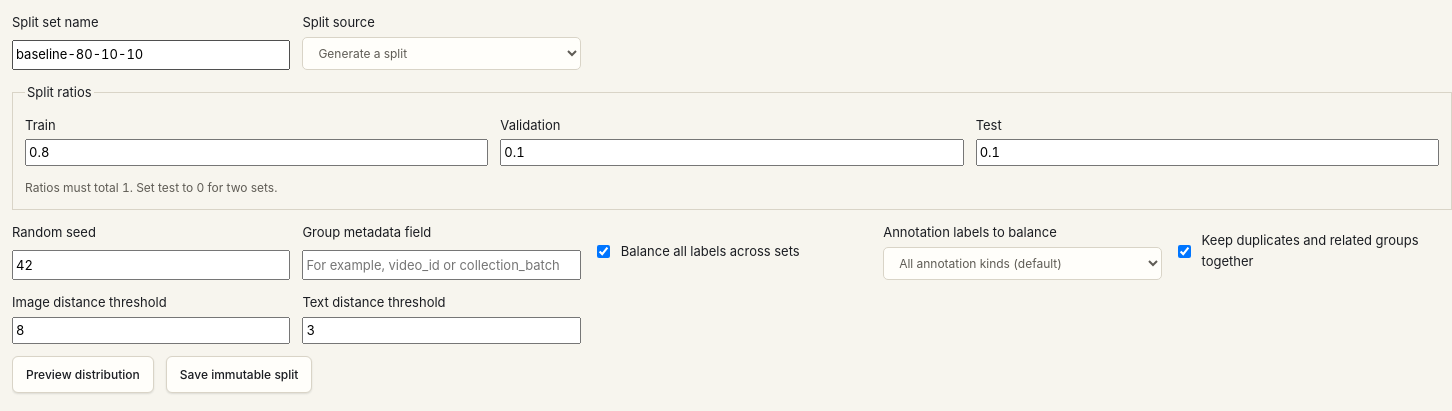
disables source selection when generated stratification does not apply
Click the checkbox labelled "Balance all labels across sets". click: [603, 251]
box: [597, 245, 610, 258]
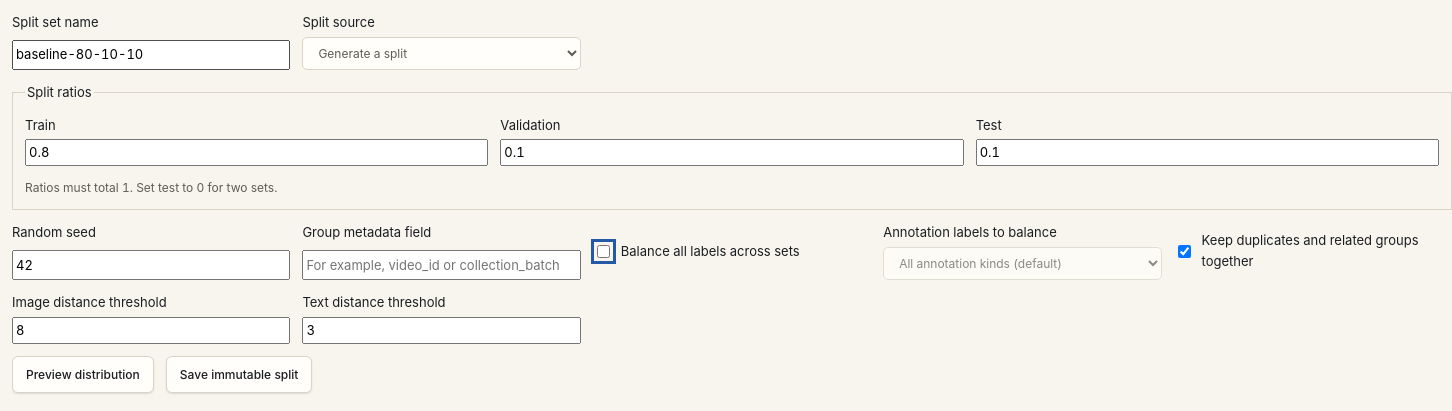
Expected: the dropdown labelled "Annotation labels to balance" is disabled, [883, 247, 1162, 280]
Click the checkbox labelled "Balance all labels across sets". click: [603, 251]
box: [597, 245, 610, 258]
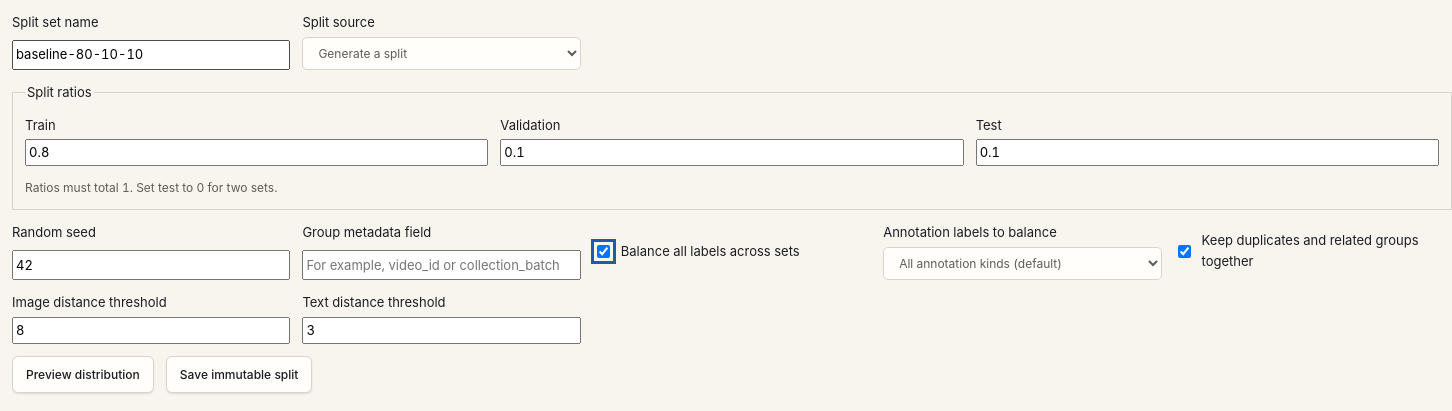
Expected: the dropdown labelled "Annotation labels to balance" is enabled, [883, 247, 1162, 280]
Select "Use existing train / val / test directories" in the dropdown labelled "Split source". click: [442, 53]
box: [302, 37, 581, 70]
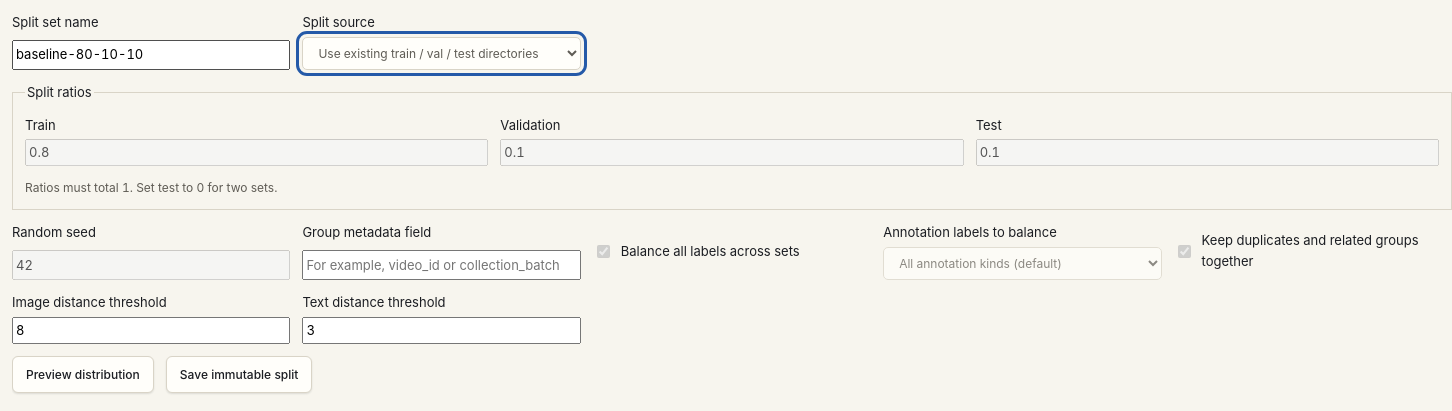
Expected: the dropdown labelled "Annotation labels to balance" is disabled, [883, 247, 1162, 280]
